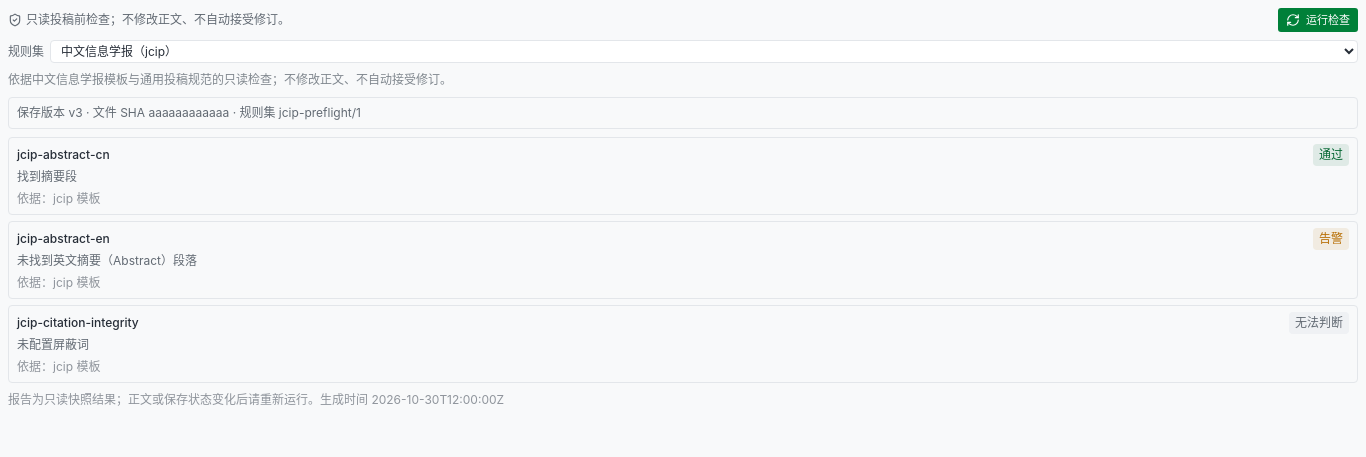
it: Word 投稿前检查面板 › 运行检查 → POST 携带当前 ruleset，并按响应 expired 如实设置
Click the button with test id "word-preflight-run" at {"x": 1318, "y": 20}, box [1278,8,1358,32]
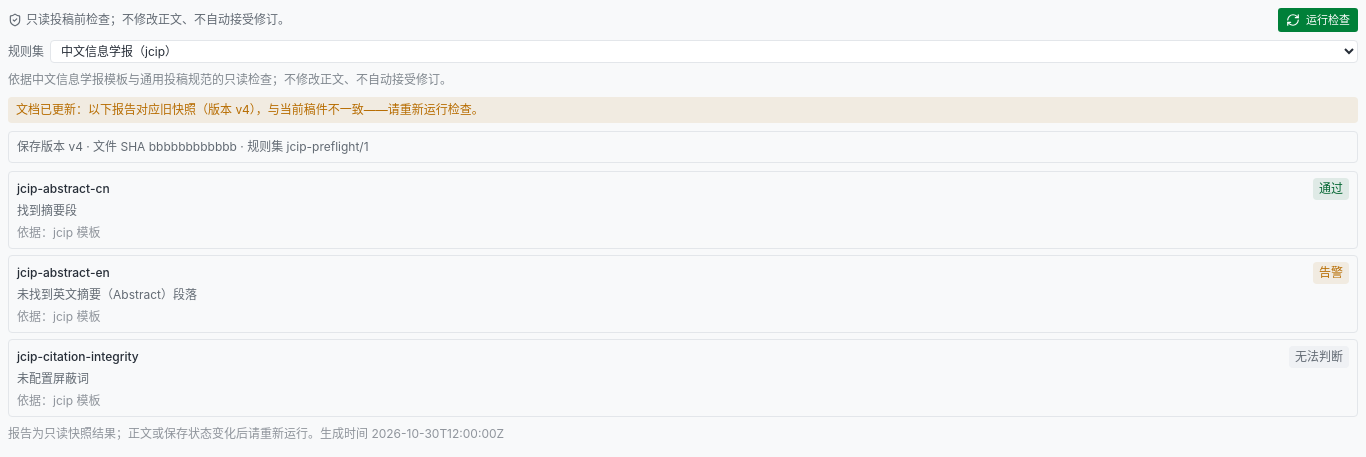
Result: the text "文档已更新：以下报告对应旧快照（版本 v4），与当前稿件不一致——请重新运行检查。" is shown at [8,97,1358,123]
Result: the text "v4" is shown at [16,102,484,117]
